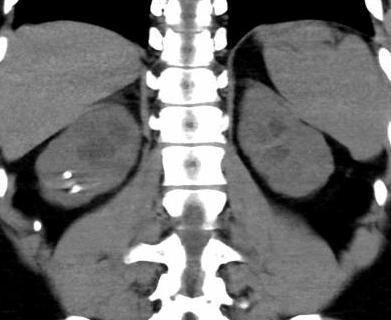Tas_Var: (60, 170, 74, 182), (70, 184, 84, 195)
